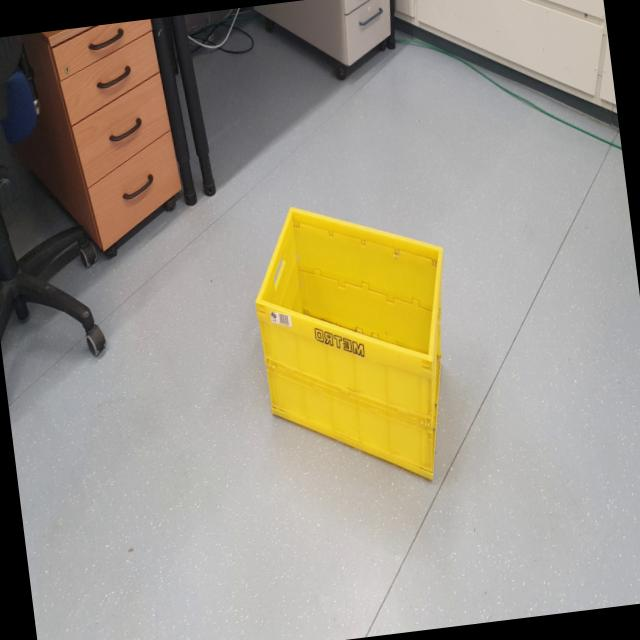box: (228, 159, 496, 516)
